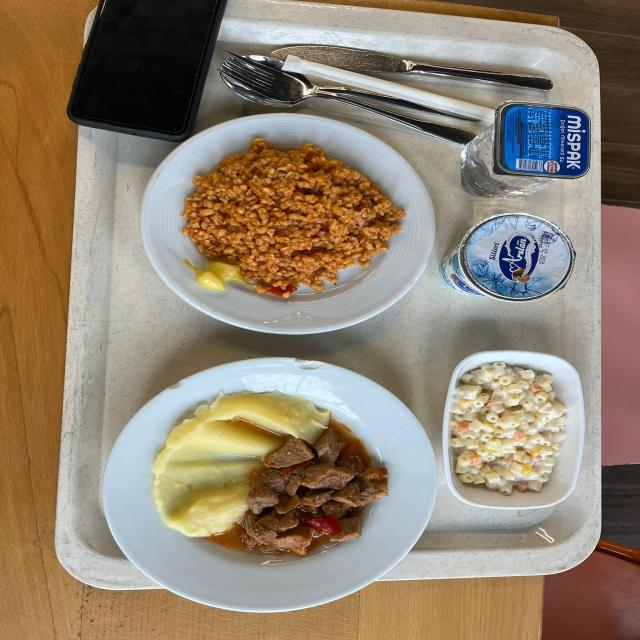ana_yemek: (100, 357, 432, 615), (139, 112, 433, 326)
yan_yemek: (440, 351, 580, 513)
